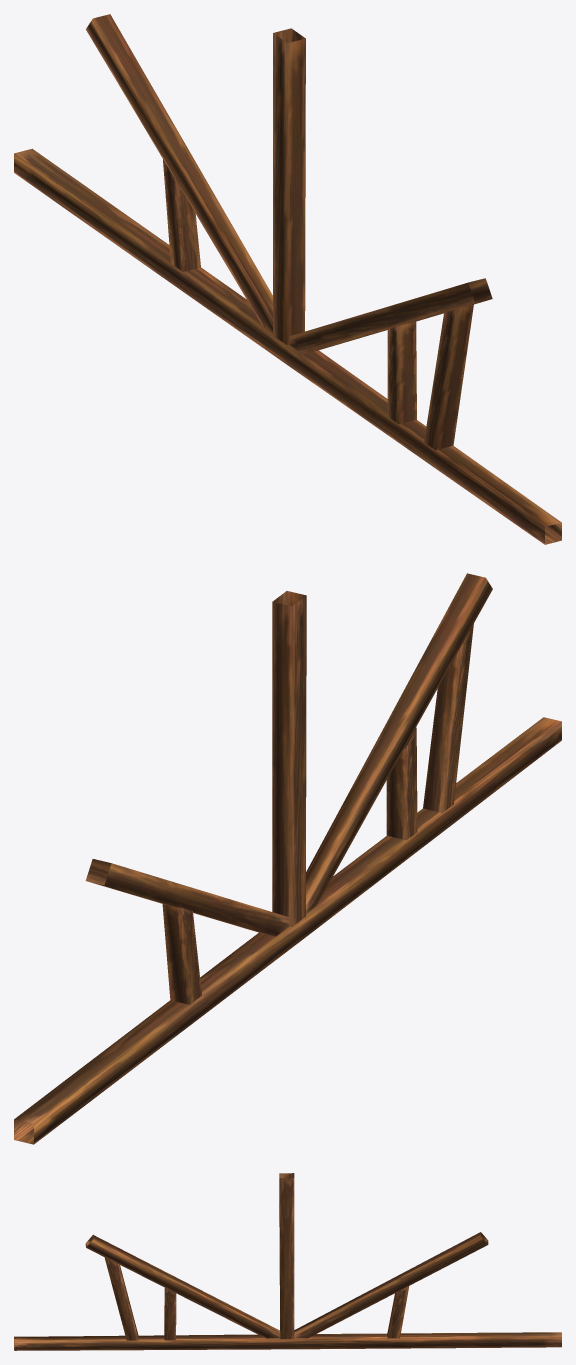
File: SWORDLIGHT20_JAILCEILBRACKET17.fbx
3 renders of one model, top to bottom at view 1: azimuth 30°, elevation 25°; view 2: azimuth 150°, elevation 25°; view 3: azimuth 270°, elevation 25°, orthographic. The views are drawn at different scales.
Visible parts, largest first — view 1: SWORDLIGHT20_JAILCEILBRACKET17; view 2: SWORDLIGHT20_JAILCEILBRACKET17; view 3: SWORDLIGHT20_JAILCEILBRACKET17.
Part boxes in pixels (x1,y1,x2,y2): SWORDLIGHT20_JAILCEILBRACKET17: [14, 14, 561, 544]; SWORDLIGHT20_JAILCEILBRACKET17: [14, 573, 561, 1144]; SWORDLIGHT20_JAILCEILBRACKET17: [14, 1173, 561, 1350].
Size of the model in its own units: 5396 by 49666 by 143930.
Materials: 1 (1 with a texture image).
